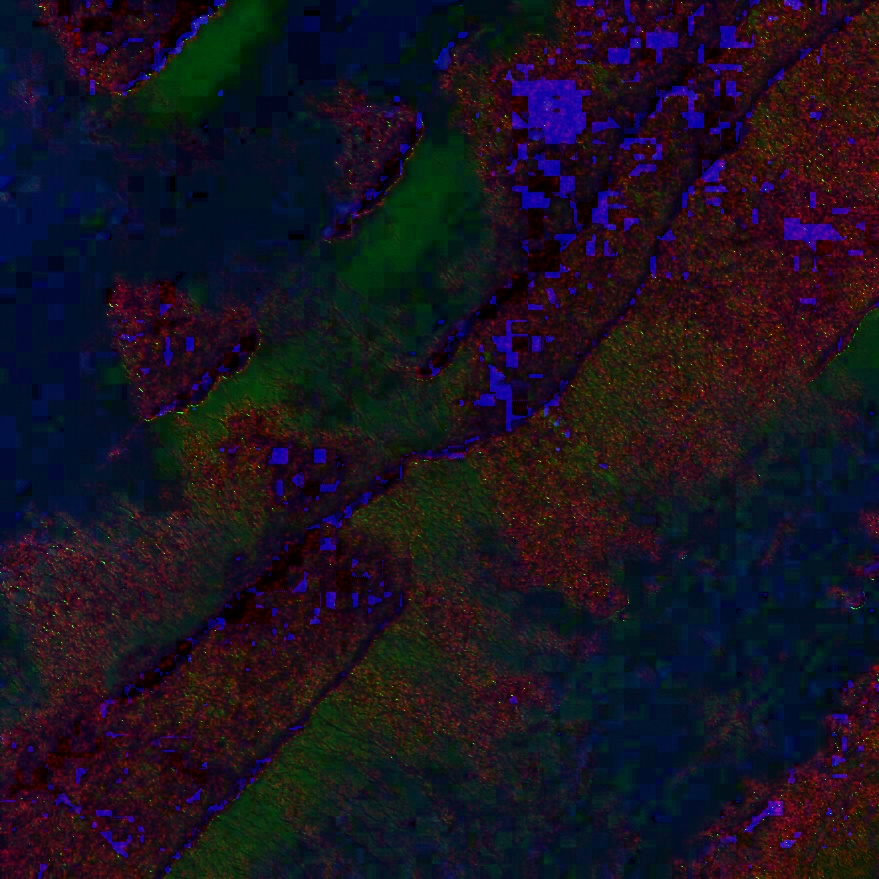rip_current: (131, 175, 533, 577)
